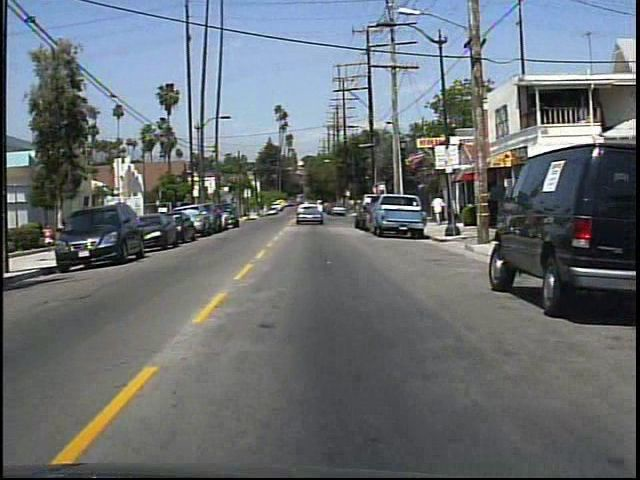person: (430, 190, 449, 228), (44, 222, 60, 250)
